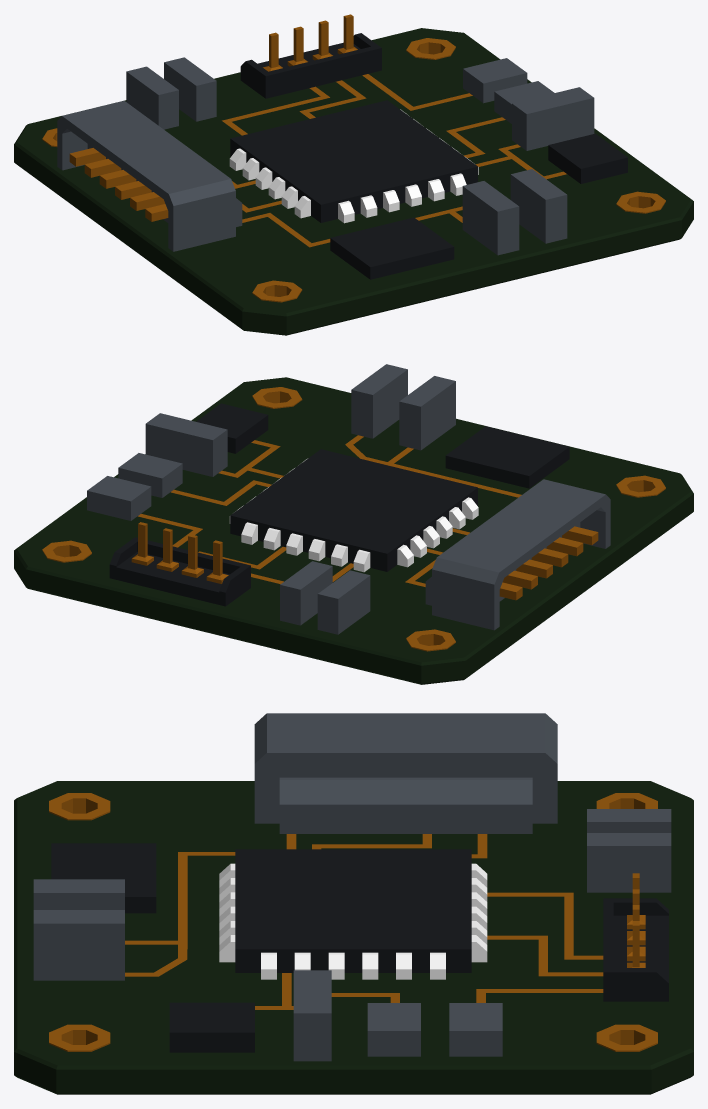
The model's file is SM_Circuit_Board.obj.
3 views of the same model, one above another, from view 1: azimuth 30°, elevation 25°; view 2: azimuth 150°, elevation 25°; view 3: azimuth 270°, elevation 25° (orthographic). The views are drawn at different scales.
Visible parts, largest first — view 1: SM_Circuit_Board; view 2: SM_Circuit_Board; view 3: SM_Circuit_Board.
Part boxes in pixels (box(x1,y1,x2,y2)): SM_Circuit_Board: box(14, 14, 693, 335); SM_Circuit_Board: box(14, 364, 693, 684); SM_Circuit_Board: box(14, 713, 693, 1094).
Bounding box in the file's own units: 0.3146 × 0.0518 × 0.3146.
